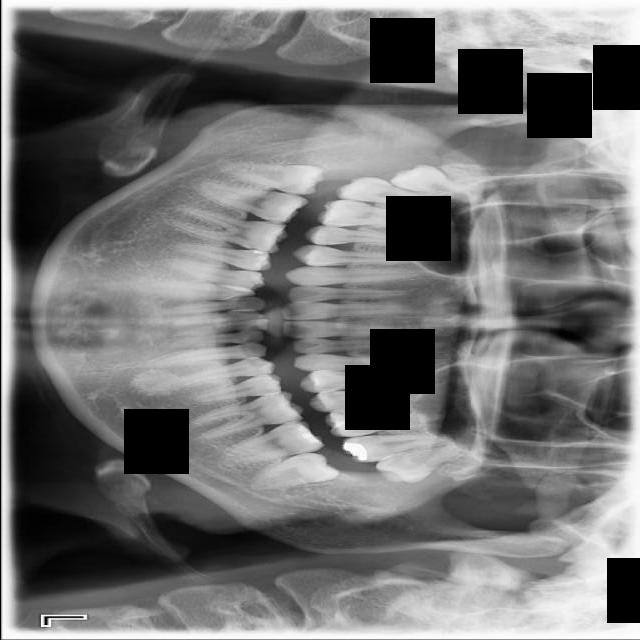3M ESPE Implant: (388, 159, 486, 207)
52: (270, 412, 322, 465), (343, 436, 388, 462), (230, 250, 268, 270)
73: (18, 614, 27, 621)
BioHorizons Implant: (340, 434, 450, 463)
BioLife Implant: (373, 442, 468, 488)
Biomet 3i Implant: (244, 446, 340, 496)
Blue Sky Bio Implant: (214, 416, 324, 471)
Caries: (335, 173, 453, 214)
Implant: (190, 175, 307, 229)
Keystone Dental Implant: (219, 161, 323, 197)
